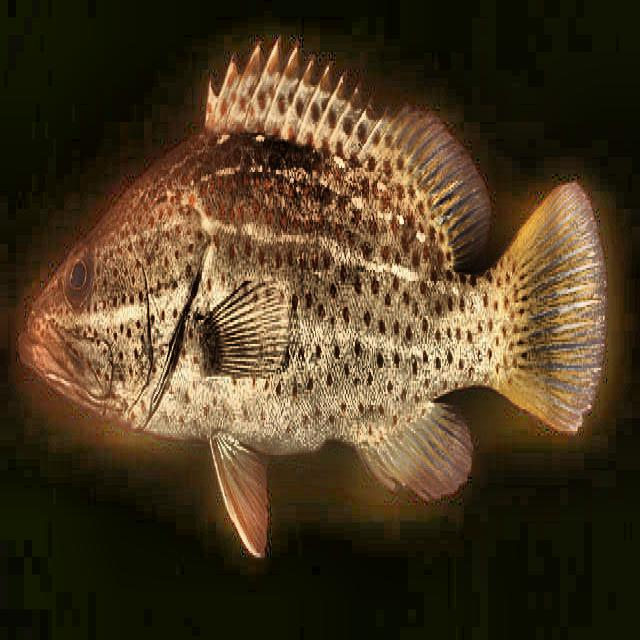fish: (17, 34, 609, 562)
